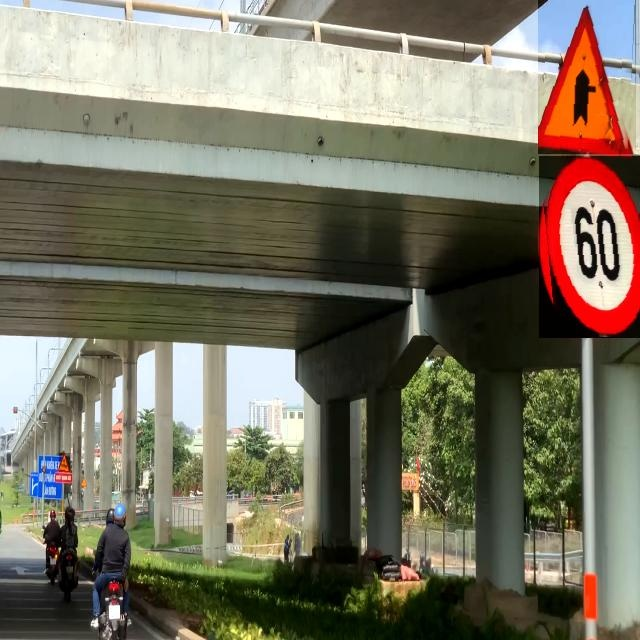bien_nguy_hiem: (539, 156, 640, 338), (538, 0, 636, 154), (59, 453, 70, 472)
